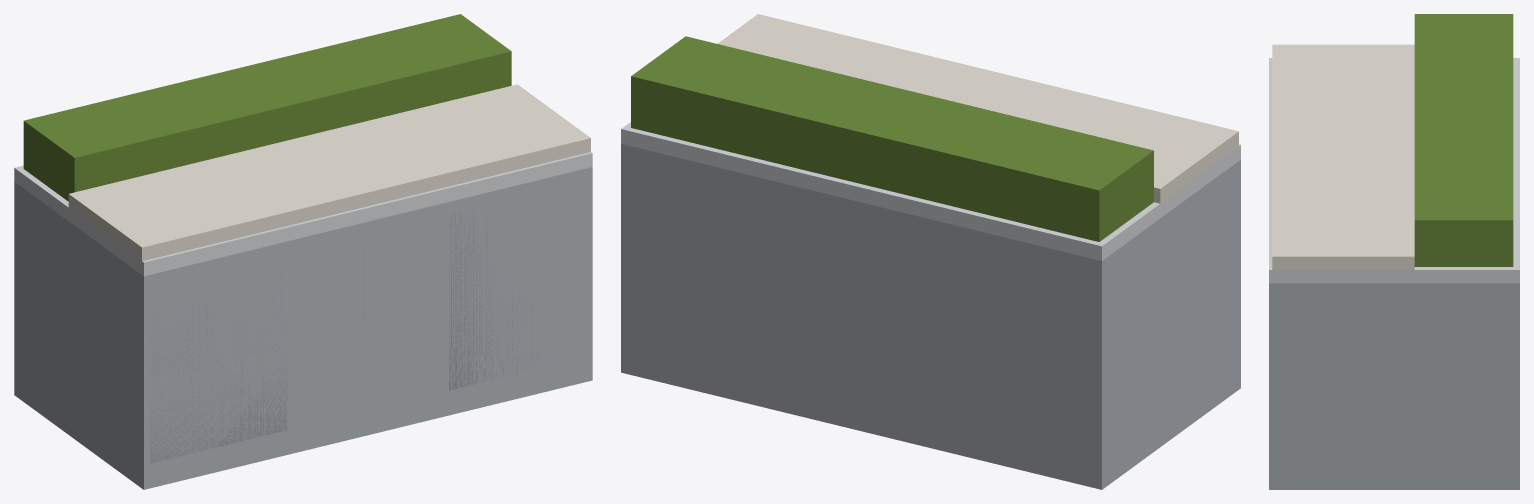
The model's file is prep_table_sandwich_60.glb.
3 views of the same model, side by side, from view 1: azimuth 30°, elevation 25°; view 2: azimuth 150°, elevation 25°; view 3: azimuth 270°, elevation 25° (orthographic). The views are drawn at different scales.
Bounding box in the file's own units: 1.52 × 0.8941 × 0.762.
